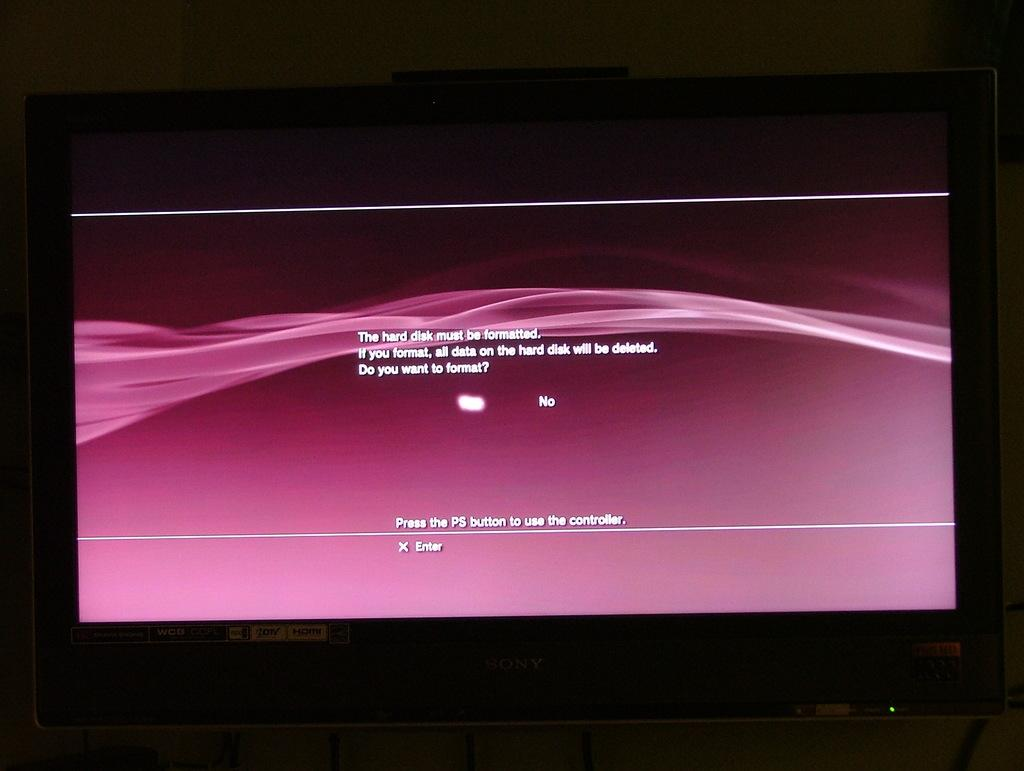Computer-monitor: (13, 67, 1023, 731)
